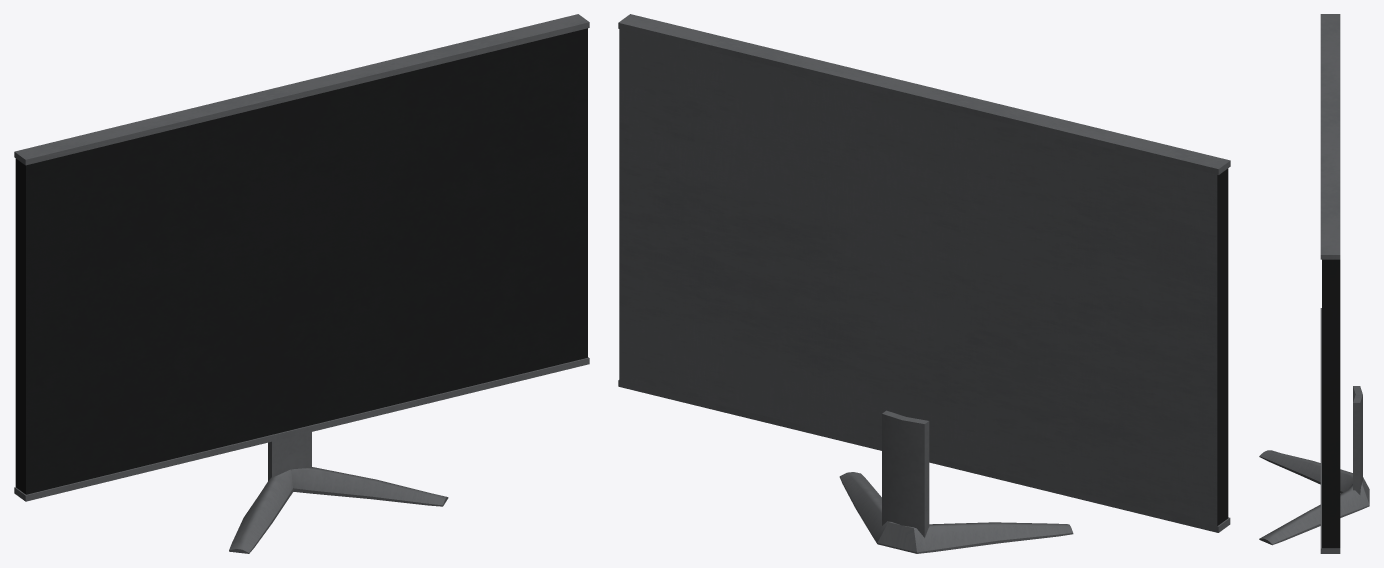
The model's file is F_Comp_Monitor.fbx.
The picture shows the model from 3 angles, left to right: view 1: azimuth 30°, elevation 25°; view 2: azimuth 150°, elevation 25°; view 3: azimuth 270°, elevation 25°; orthographic projection. The views are drawn at different scales.
Visible parts, largest first — view 1: polySurface5, pCube7, pCube5; view 2: polySurface5, pCube7, pCube5; view 3: polySurface5, pCube7, pCube5.
Boxes of the visible parts, bbox=[...] form: polySurface5: bbox=[14, 14, 589, 501]; pCube7: bbox=[229, 467, 448, 553]; pCube5: bbox=[268, 432, 311, 480]; polySurface5: bbox=[618, 14, 1230, 532]; pCube7: bbox=[839, 472, 1073, 553]; pCube5: bbox=[882, 410, 929, 537]; polySurface5: bbox=[1320, 14, 1340, 553]; pCube7: bbox=[1259, 450, 1369, 545]; pCube5: bbox=[1353, 386, 1362, 494].
Size of the model in its own units: 0.7508 by 0.5271 by 0.1454.
